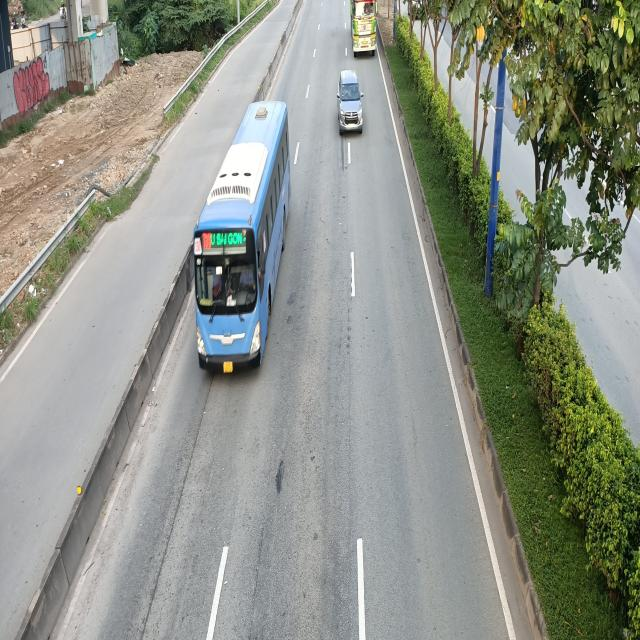car: (336, 70, 364, 134)
coach: (185, 98, 295, 370)
container: (351, 0, 378, 56)
